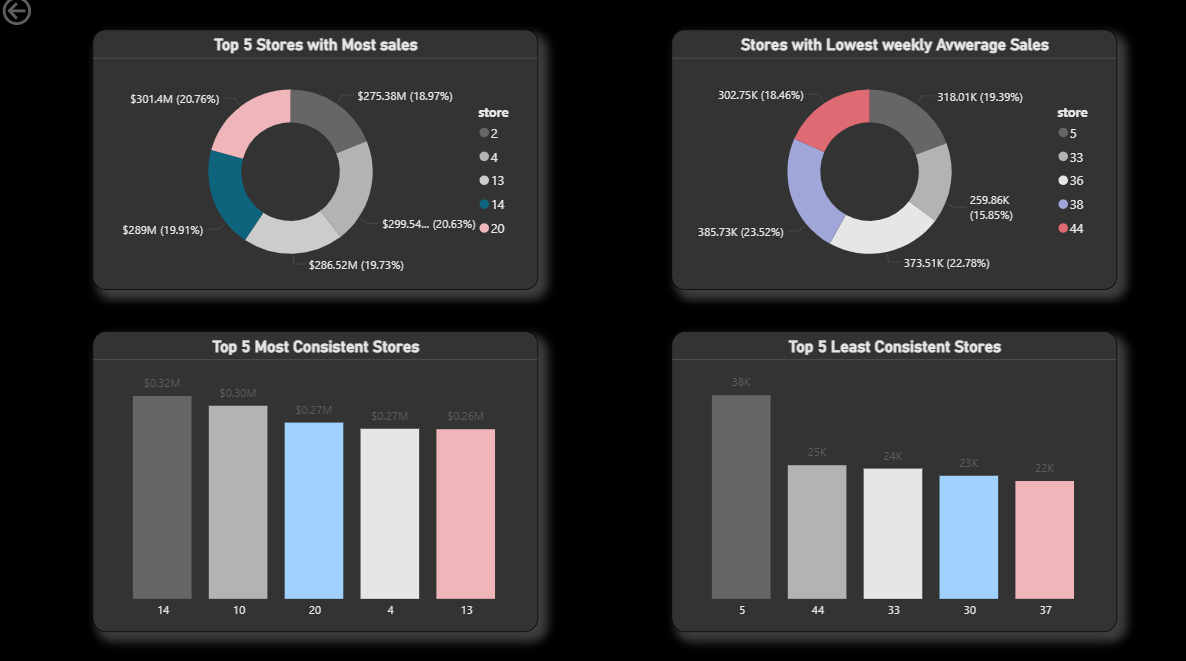

What the dashboard file says about the page in this screenshot:
{"tool":"powerbi","page":{"name":"Page 2","canvas":[1280,720],"ordinal":1},"visuals":[{"type":"actionButton","box":[0,0,100,40],"z":0},{"type":"donutChart","title":"Top 5 Stores with Most sales","fields":{"Series":["top 5 store (2).store"],"Y":["Sum(top 5 store (2).total_sales)"]},"box":[100,40.3,472.6,275.8],"z":1000},{"type":"donutChart","title":"Stores with Lowest weekly Avwerage Sales","fields":{"Y":["Sum(bottom 5 average sales store.average_sales)"],"Series":["bottom 5 average sales store.store"]},"box":[714.5,40.3,472.6,275.8],"z":2000},{"type":"columnChart","title":"Top 5 Most Consistent Stores","fields":{"Category":["sales consistency top 5.store"],"Y":["Sum(sales consistency top 5.sales_consistency)"]},"box":[100,359.7,472.6,319.4],"z":3000},{"type":"columnChart","title":"Top 5 Least Consistent Stores","fields":{"Y":["Avg(bottom 5 sales consistency.sales_consistency)"],"Category":["bottom 5 sales consistency.store"]},"box":[714.5,359.7,472.6,319.4],"z":4000}]}

Visuals, with their boxes in screenshot pixels (x1, y1, x2, y2), scaled from the page's 1280x720 canvas onto the 1186x661 screenshot:
actionButton: box=[0, 0, 93, 37]
"Top 5 Stores with Most sales" donutChart: box=[93, 37, 531, 290]
"Stores with Lowest weekly Avwerage Sales" donutChart: box=[662, 37, 1100, 290]
"Top 5 Most Consistent Stores" columnChart: box=[93, 330, 531, 623]
"Top 5 Least Consistent Stores" columnChart: box=[662, 330, 1100, 623]
